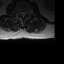CCS_normal: (22, 9, 24, 19)
LFS_stenosis: (26, 10, 28, 15)
LLS_normal: (24, 10, 26, 16)
RFS_stenosis: (19, 10, 20, 16)
RLS_normal: (20, 10, 22, 16)
